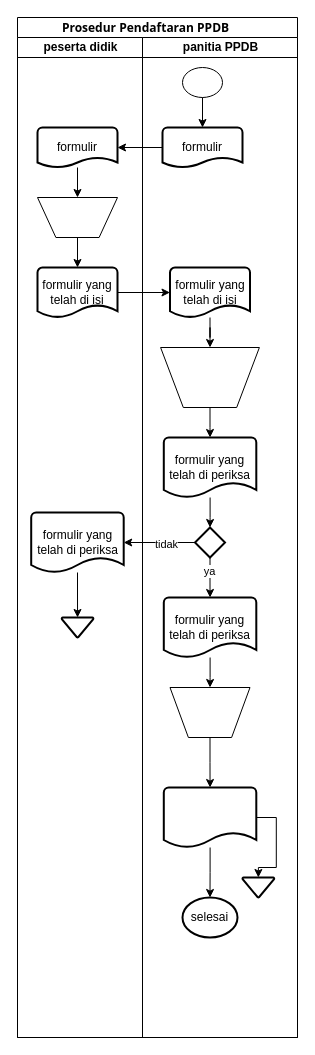
This 315x1055 diagram has some shape labels left out. The centre of each missing label's shape, as x and y in pixels:
"formulir di proses" belongs at [209,712].
"formulir yang telah di proses" belongs at [209,817].
"memeriksa formulir yang telah di isi" belongs at [209,377].
"mengisi formulir" belongs at [77,217].
"mulai" belongs at [202,82].
